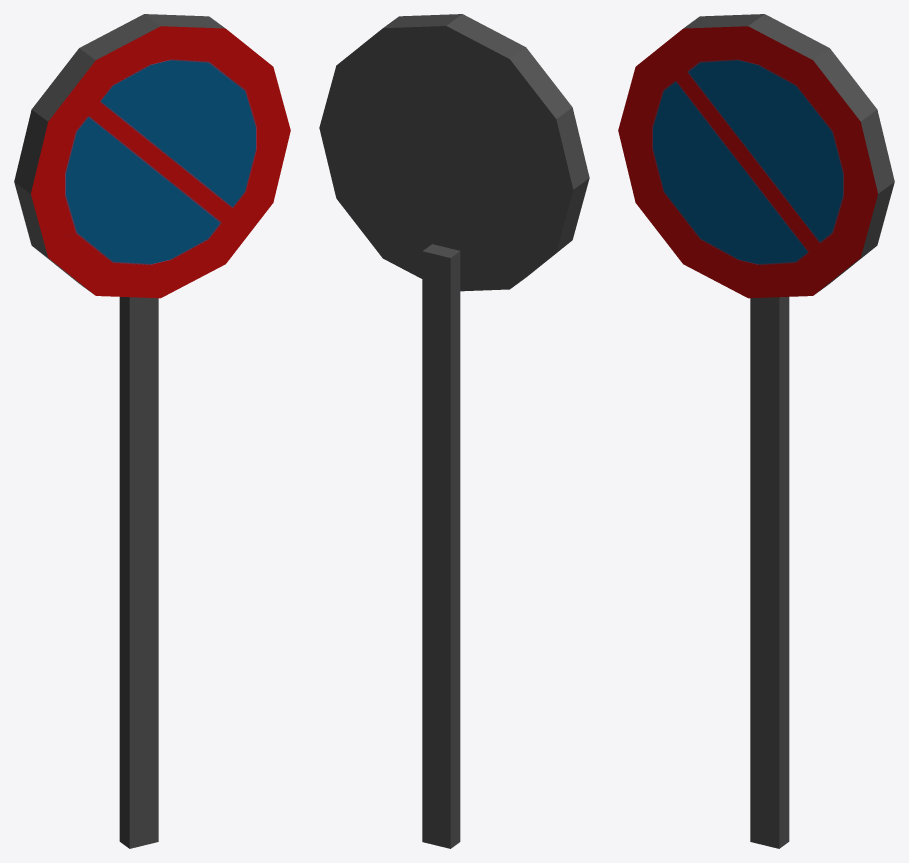
Rendered from traffic_sign_no_parking.glb.
The picture shows the model from 3 angles, left to right: view 1: azimuth 30°, elevation 25°; view 2: azimuth 150°, elevation 25°; view 3: azimuth 330°, elevation 25°; orthographic projection. The views are drawn at different scales.
Visible parts, largest first — view 1: Circle, Plane; view 2: Circle, Plane; view 3: Circle, Plane.
Part boxes in pixels (<box>): Circle: <box>14,14,290,298</box>; Plane: <box>119,297,158,848</box>; Circle: <box>319,14,589,291</box>; Plane: <box>422,244,460,848</box>; Circle: <box>618,14,894,298</box>; Plane: <box>750,297,789,848</box>.
Size of what is drawn, in the model's own units: 0.9 by 2.75 by 0.16.
3 materials, 1 textured.
